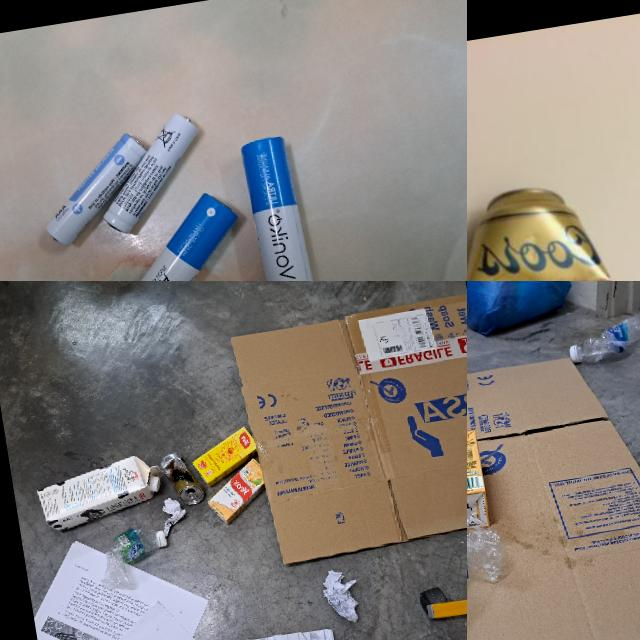aba de lata: (187, 491, 200, 504)
bateria: (88, 107, 214, 235), (34, 130, 158, 248), (102, 187, 257, 281), (240, 133, 318, 281)
caixinha: (34, 452, 170, 535), (188, 426, 262, 490), (203, 457, 270, 526), (467, 430, 491, 531)
garrafa plástica: (467, 520, 514, 634), (96, 524, 174, 592), (573, 313, 640, 364)
lata: (467, 174, 622, 281), (160, 450, 204, 508)
papel: (24, 522, 241, 640), (321, 566, 364, 624), (160, 496, 190, 537)
papelão: (230, 293, 467, 569), (467, 336, 640, 640)
sacola plástica: (467, 281, 578, 339)
tampa plástica: (154, 528, 168, 548), (147, 474, 162, 492), (570, 344, 582, 362)
